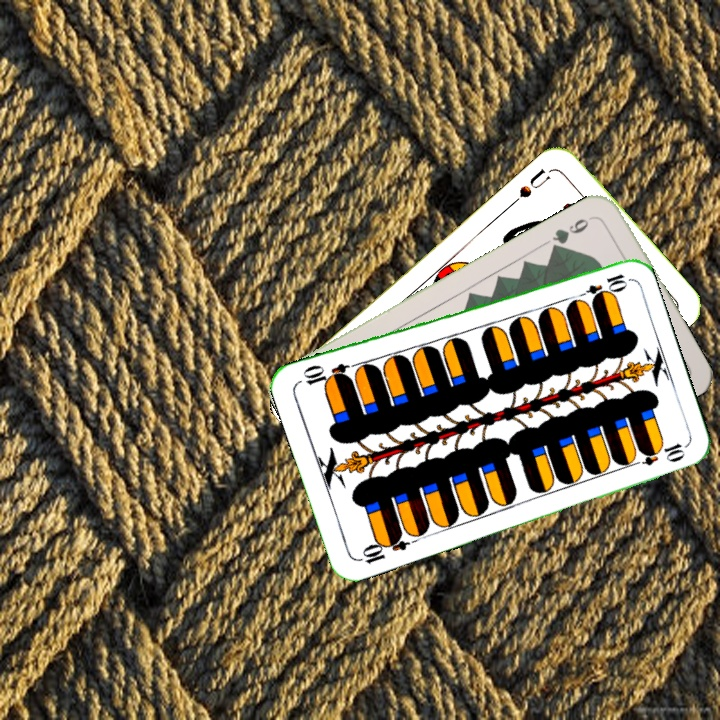E10: (355, 529, 412, 567), (571, 269, 629, 301)
G9: (547, 212, 597, 254)
SU: (507, 164, 553, 208)
